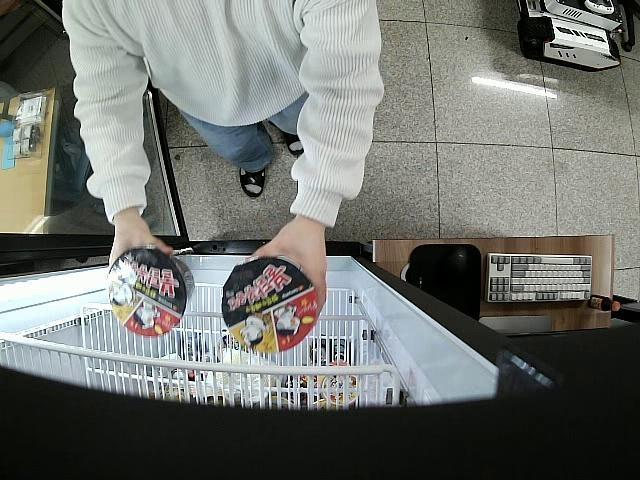07_buldak_L: (221, 259, 320, 354), (108, 248, 195, 336)
